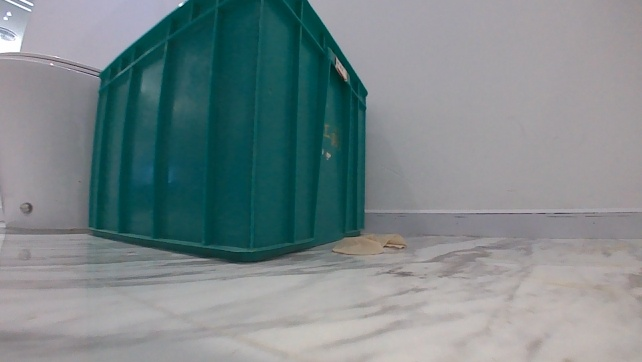socks: (330, 228, 408, 255)
toilet: (0, 49, 106, 235)
